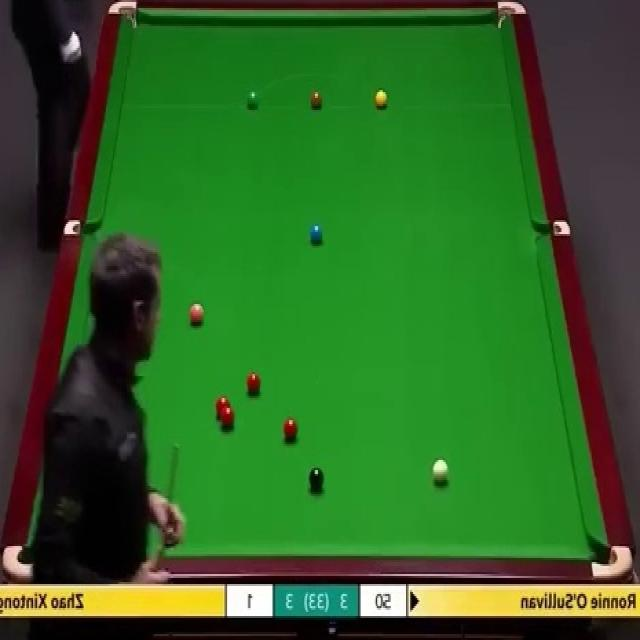pocket: (590, 544, 634, 579), (1, 544, 35, 583), (107, 2, 138, 32), (496, 1, 528, 30), (536, 221, 570, 240), (64, 222, 98, 240)
